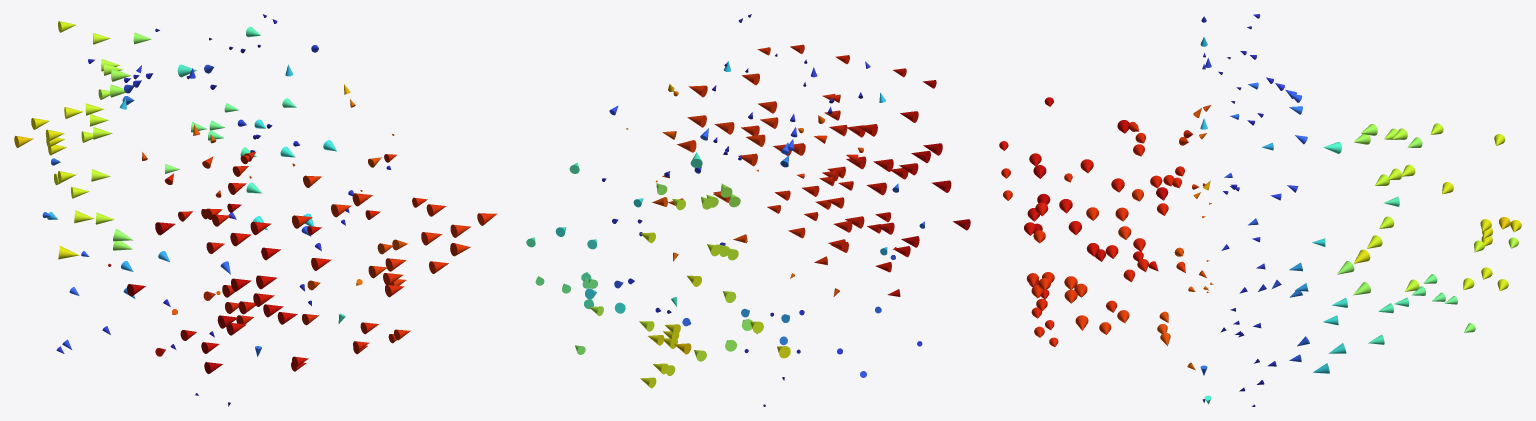
File: LineasCorrienteH2-O2_mh2-6.88_V-0.7.glb
The picture shows the model from 3 angles, left to right: view 1: azimuth 30°, elevation 25°; view 2: azimuth 150°, elevation 25°; view 3: azimuth 270°, elevation 25°; orthographic projection. The views are drawn at different scales.
Size of the model in its own units: 0.000932 by 0.000984 by 0.00125.
2 materials, 2 textured.
